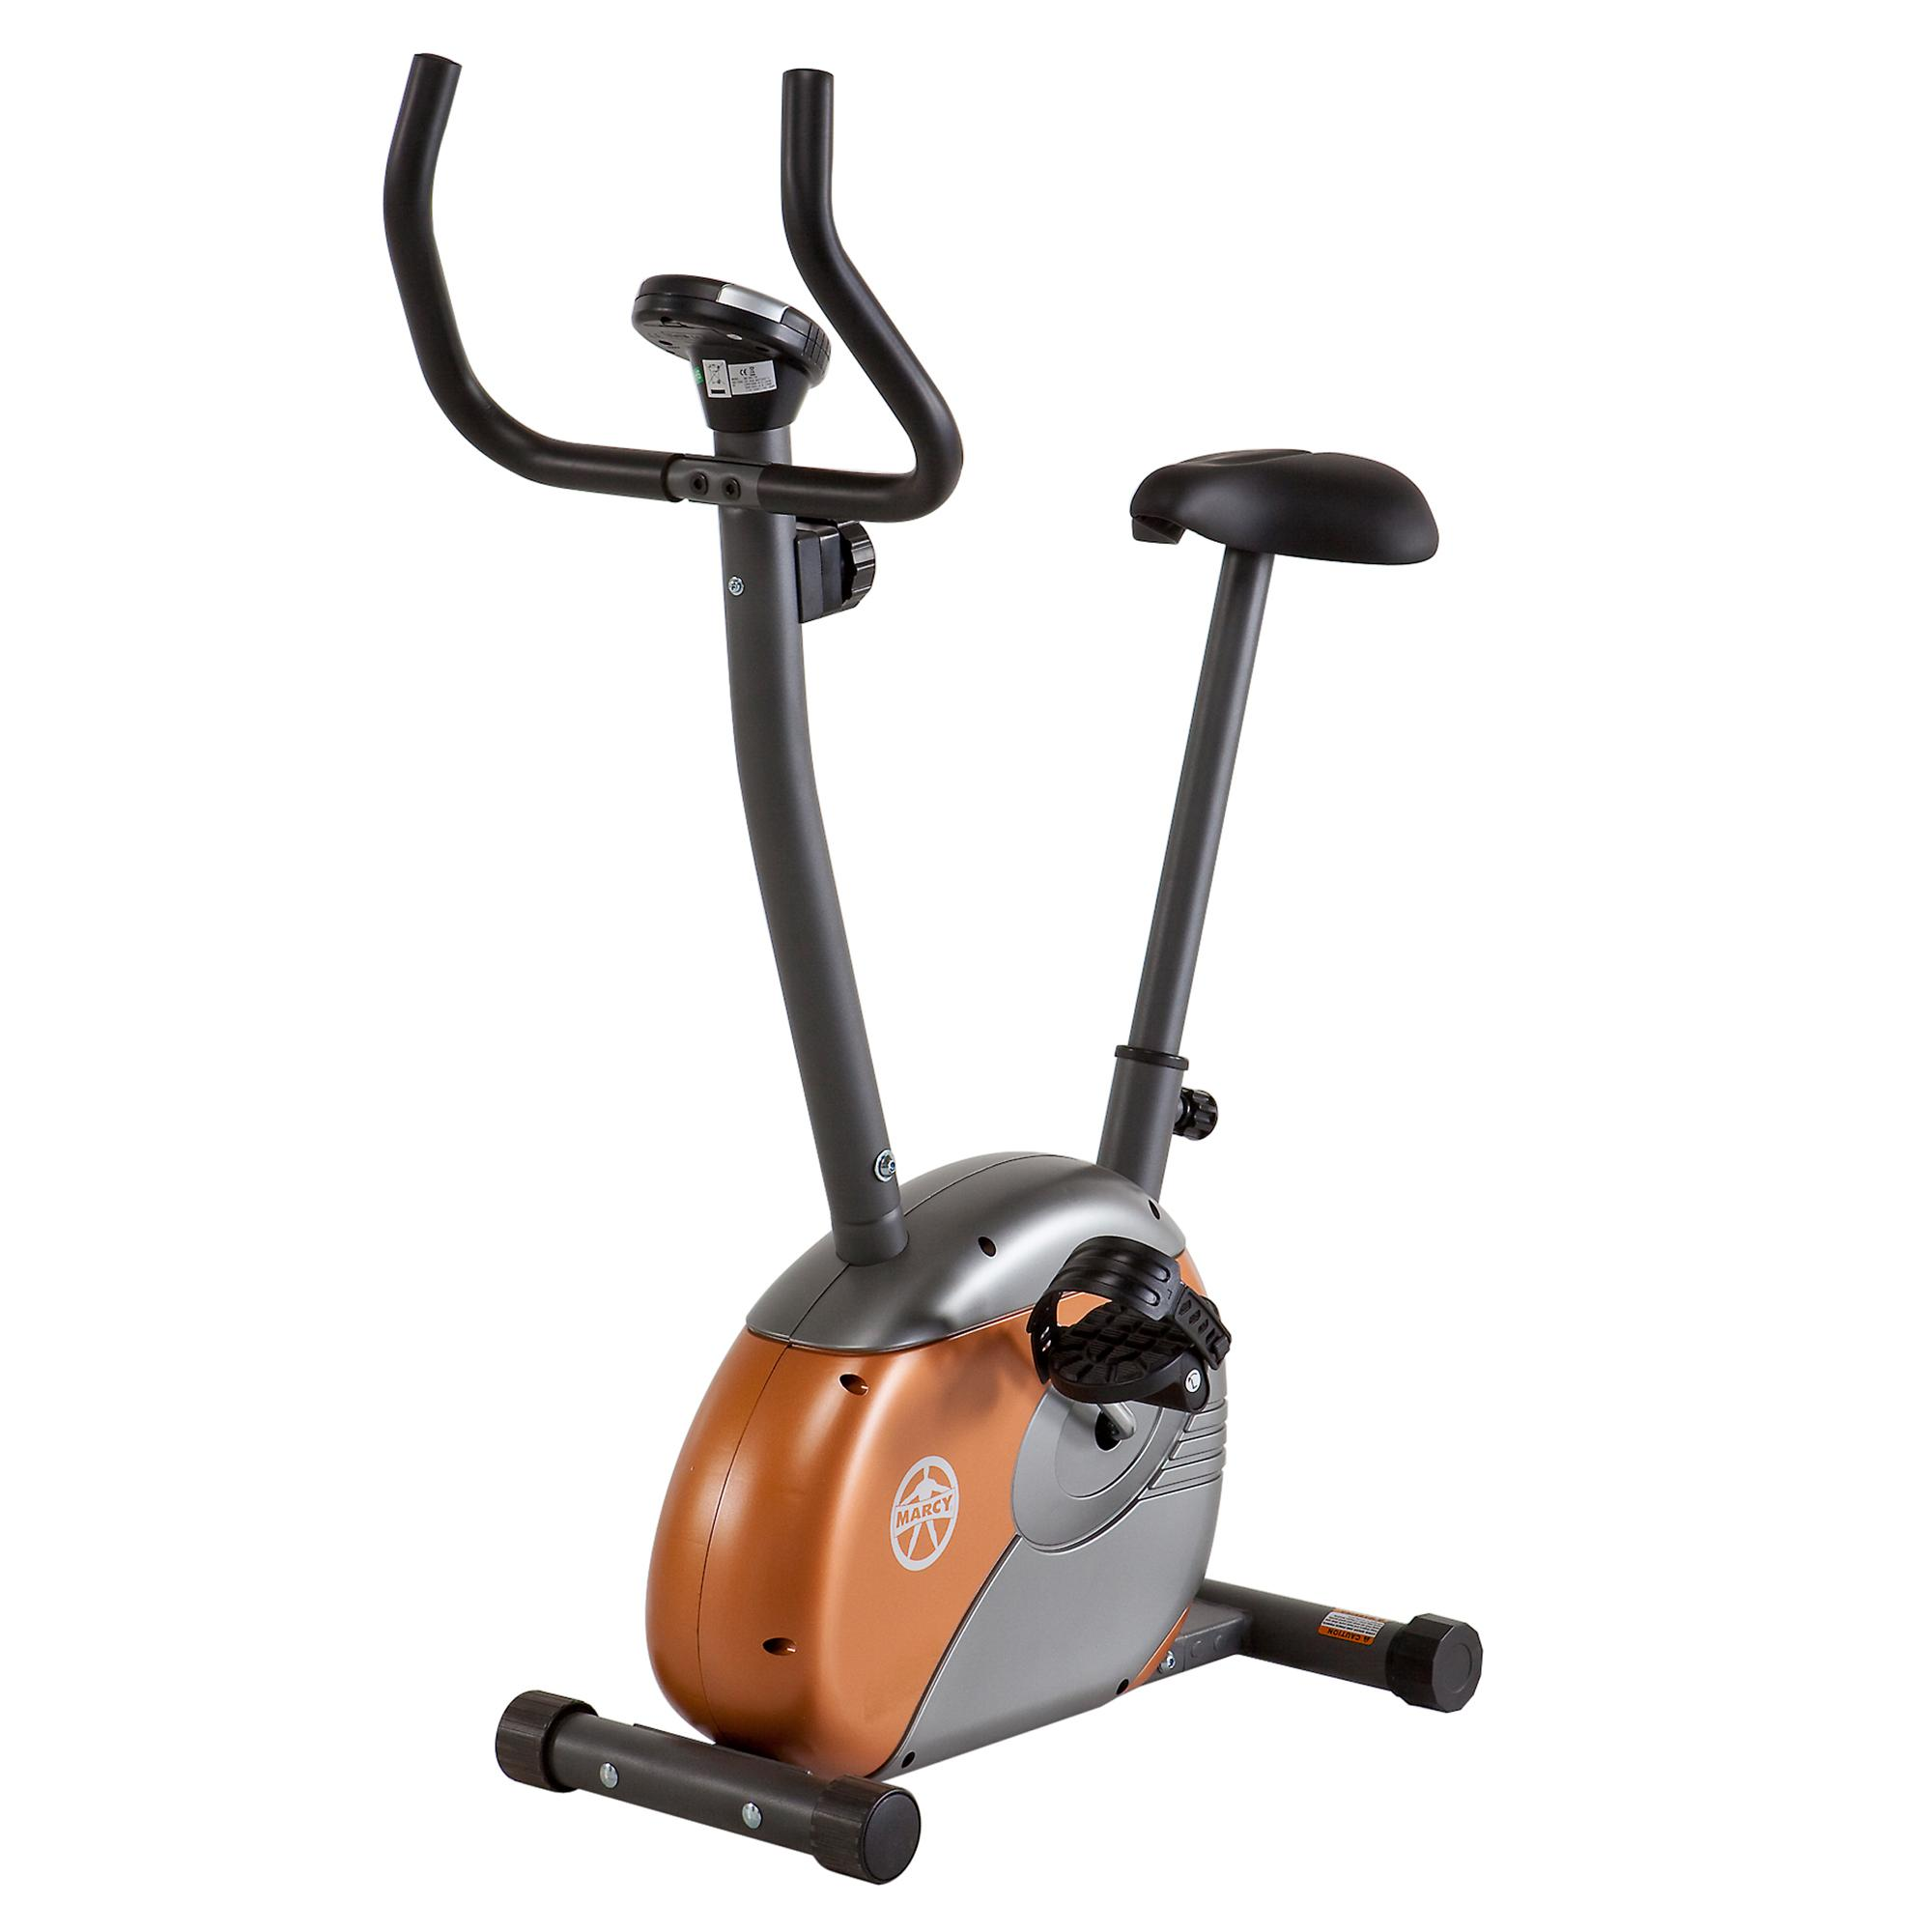gym_bike: (349, 73, 1541, 1911)
